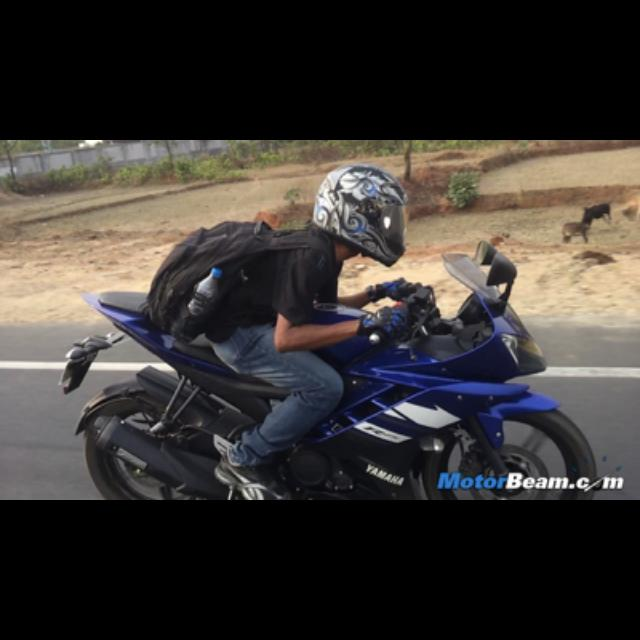With Helmet: (312, 156, 408, 264)
